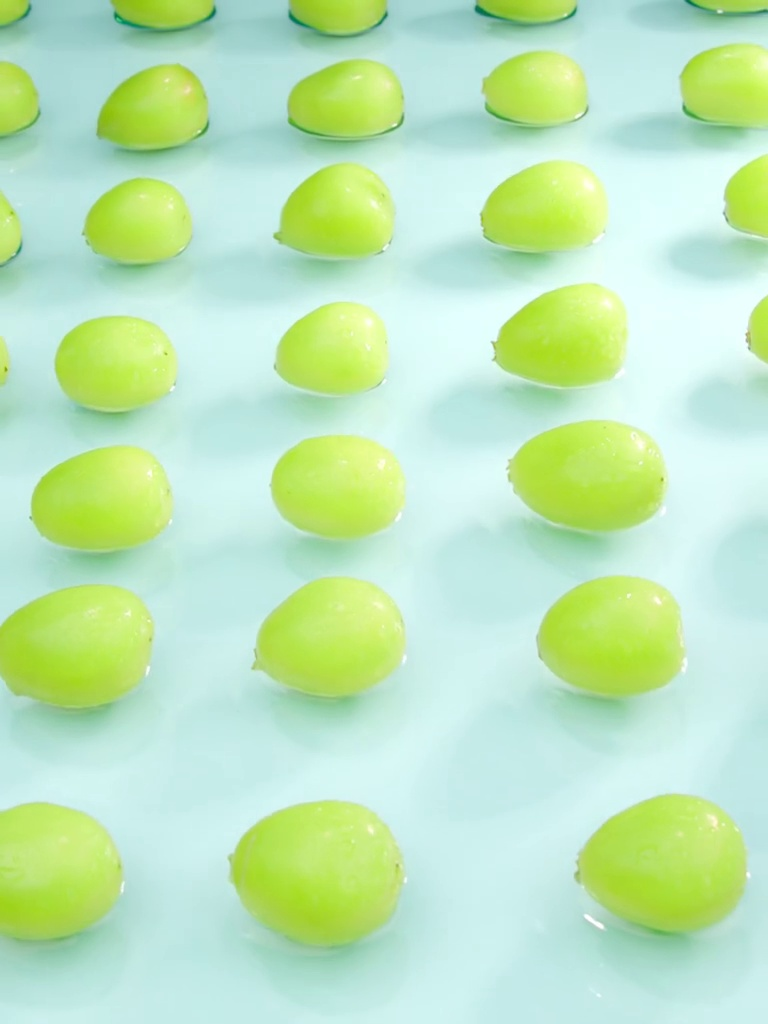grape: (251, 582, 408, 700)
